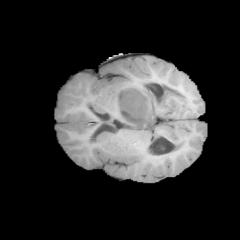glioma: (112, 86, 153, 127)
